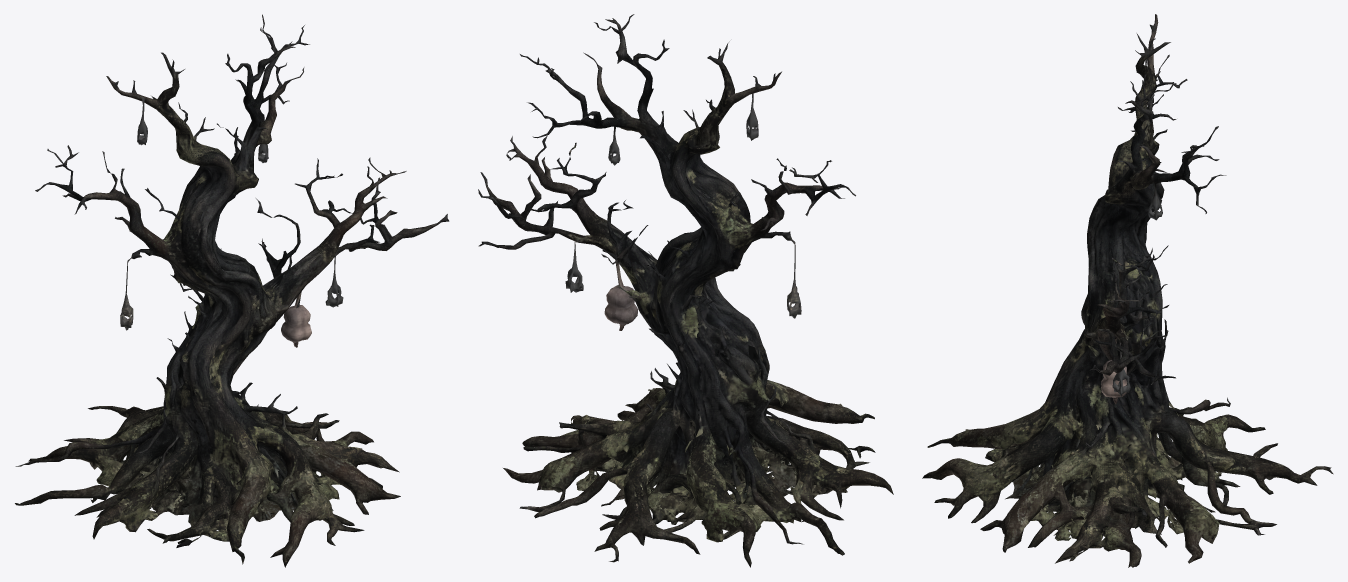
Rendered from prop_deadtree.glb.
3 views of the same model, side by side, from view 1: azimuth 30°, elevation 25°; view 2: azimuth 150°, elevation 25°; view 3: azimuth 270°, elevation 25° (orthographic). The views are drawn at different scales.
Size of the model in its own units: 0.9096 by 0.986 by 0.8227.
1 material, 1 textured.
